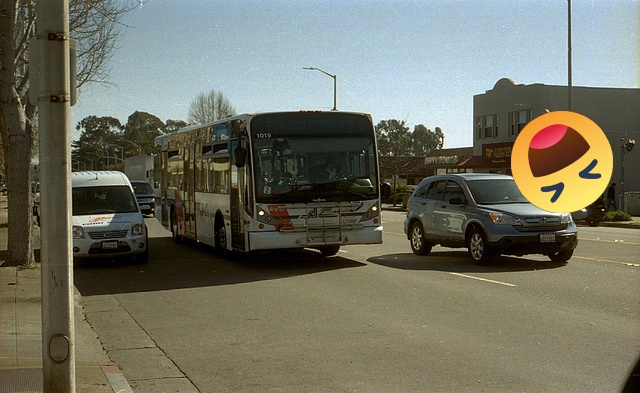haha: (511, 111, 613, 213)
